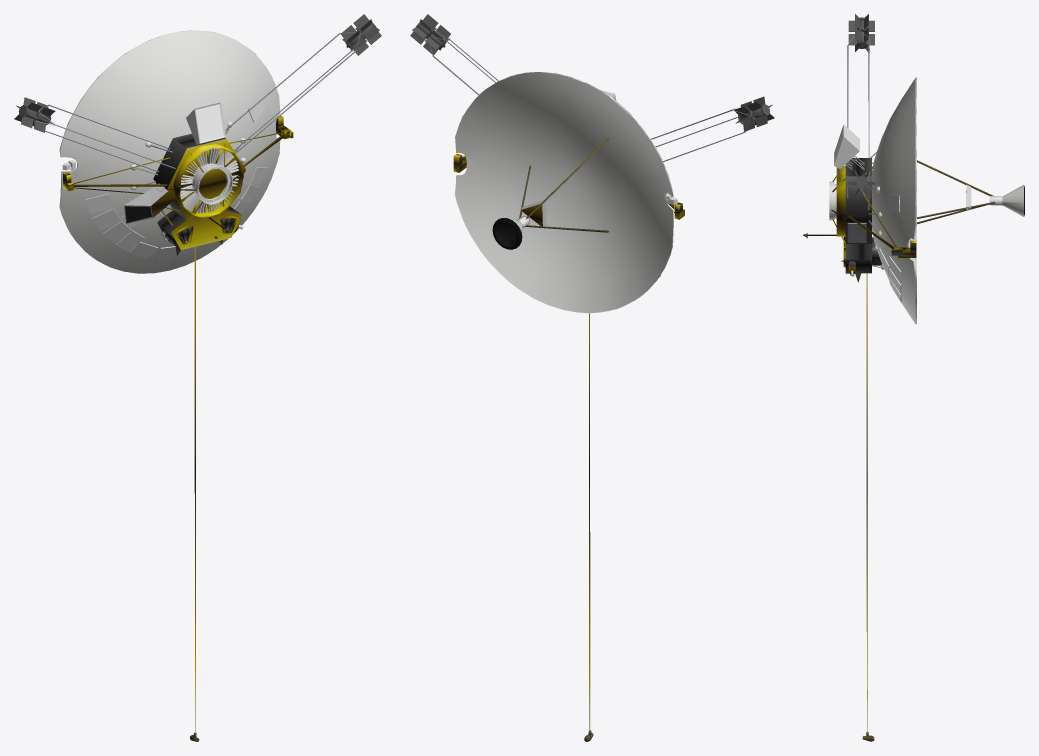
File: pioneer10_lod1.glb
The picture shows the model from 3 angles, left to right: view 1: azimuth 30°, elevation 25°; view 2: azimuth 150°, elevation 25°; view 3: azimuth 270°, elevation 25°; orthographic projection. The views are drawn at different scales.
Visible parts, largest first — view 1: pioneer10_lod1; view 2: pioneer10_lod1; view 3: pioneer10_lod1.
Boxes of the visible parts, x1,y1,x2,y2 form: pioneer10_lod1: (14, 14, 381, 741); pioneer10_lod1: (410, 14, 774, 741); pioneer10_lod1: (803, 14, 1024, 741).
Size of the model in its own units: 4.52 by 8.25 by 2.54.
Materials: 11 (5 with a texture image).
